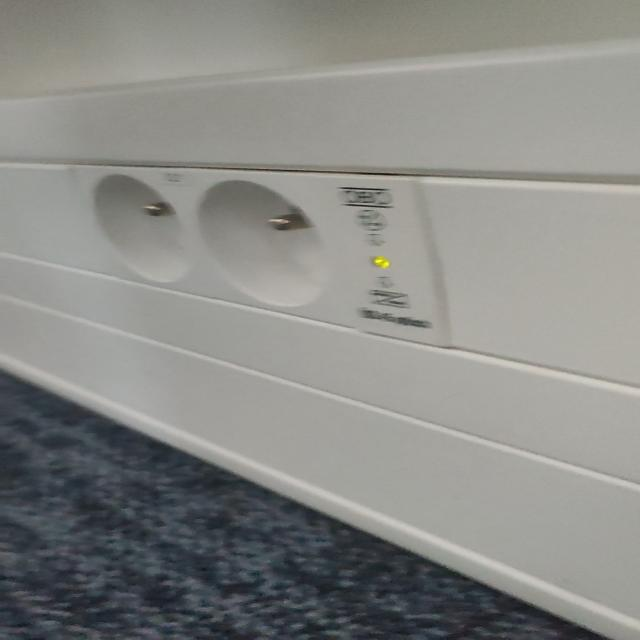house plug: (187, 168, 351, 331), (73, 165, 201, 295)
